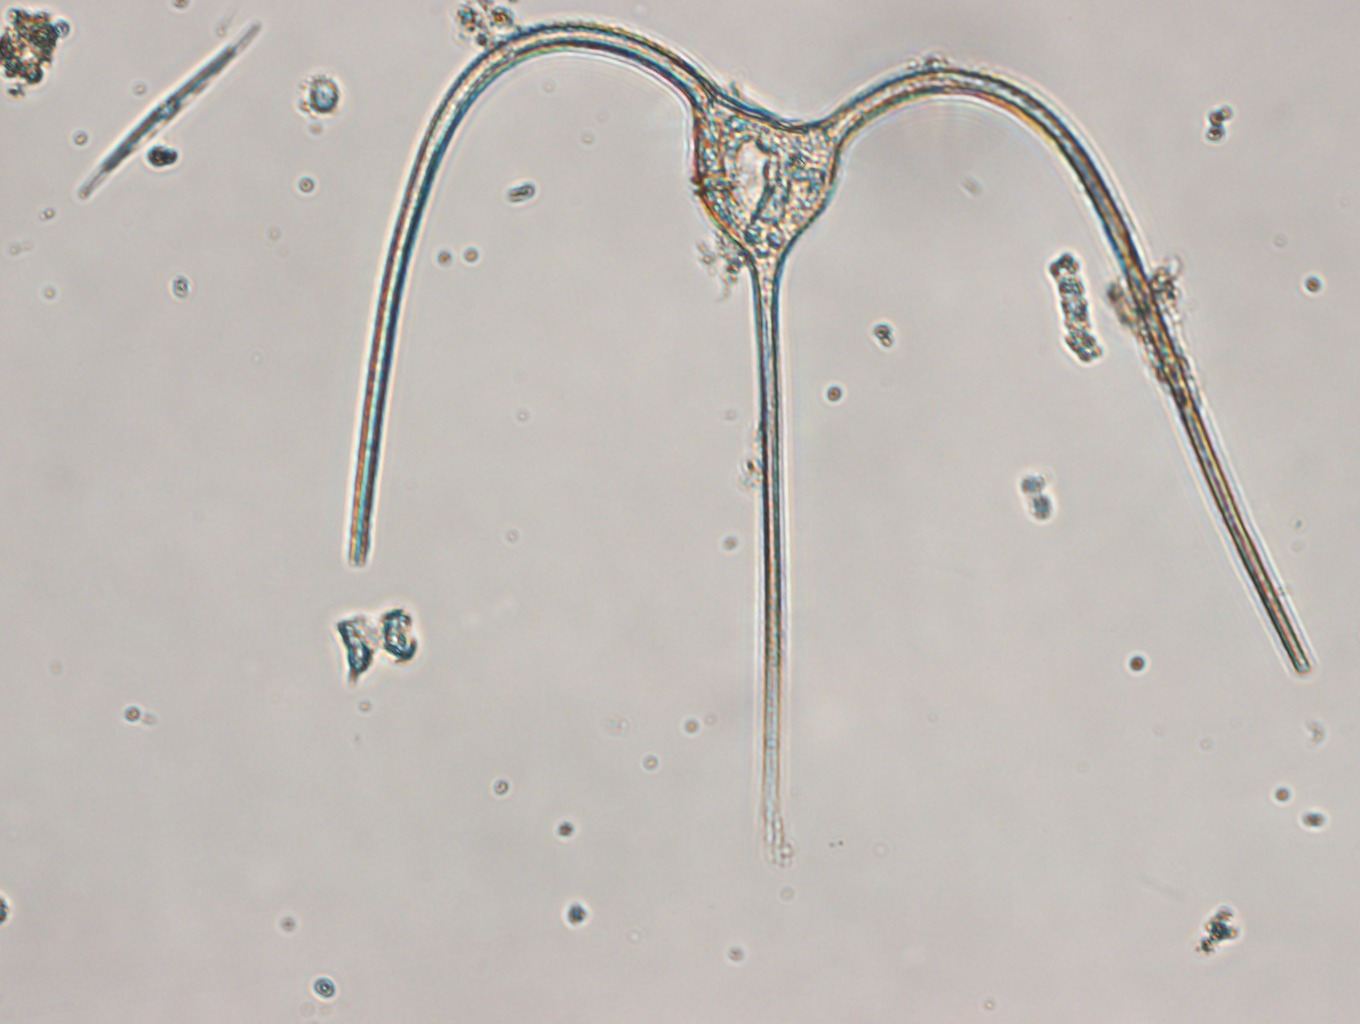ceratium trichoceros: (331, 25, 1327, 821)
